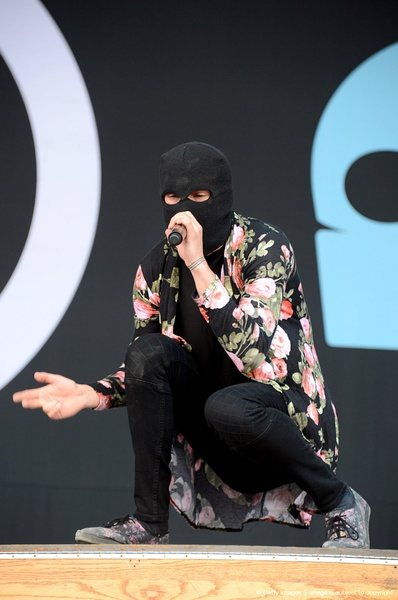face_mask: (164, 170, 214, 249)
